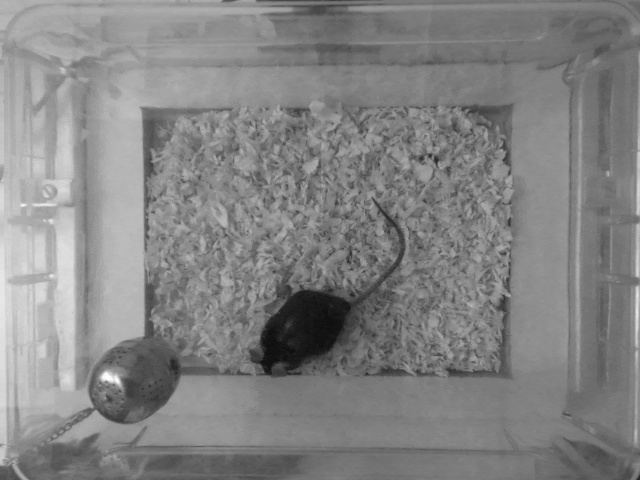mice: (249, 190, 412, 378)
